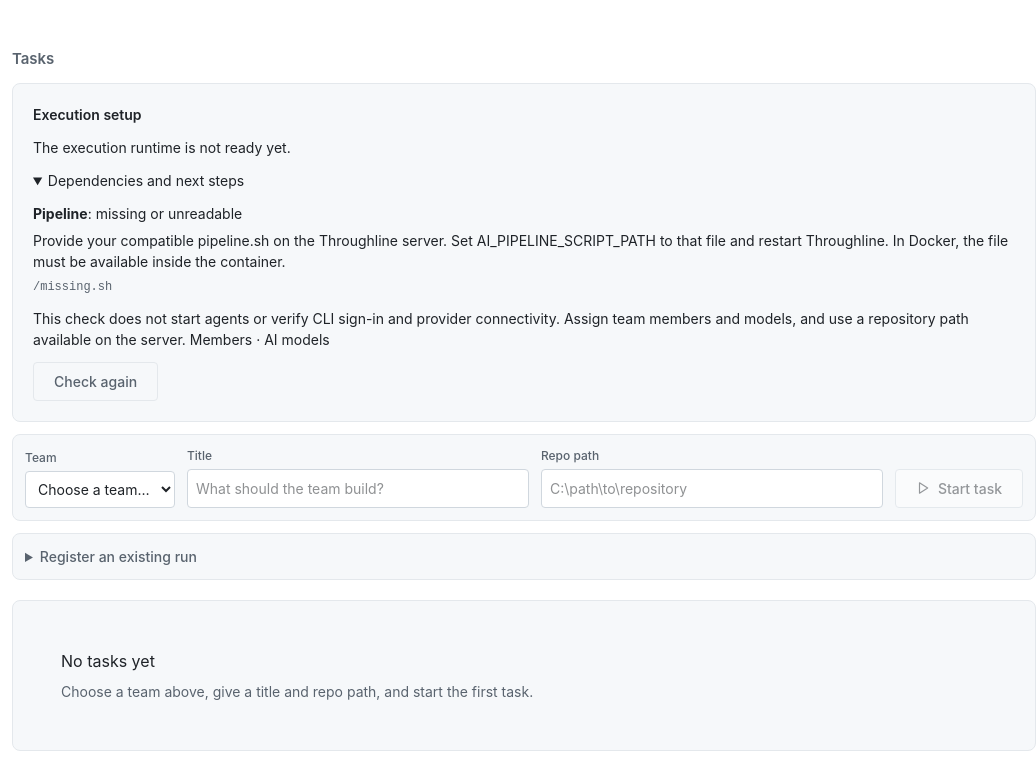
blocks unavailable runtime and enables launch after a successful retry
Select "Review team" in the dropdown labelled "Team" at (100, 489), box [25,470,175,508]
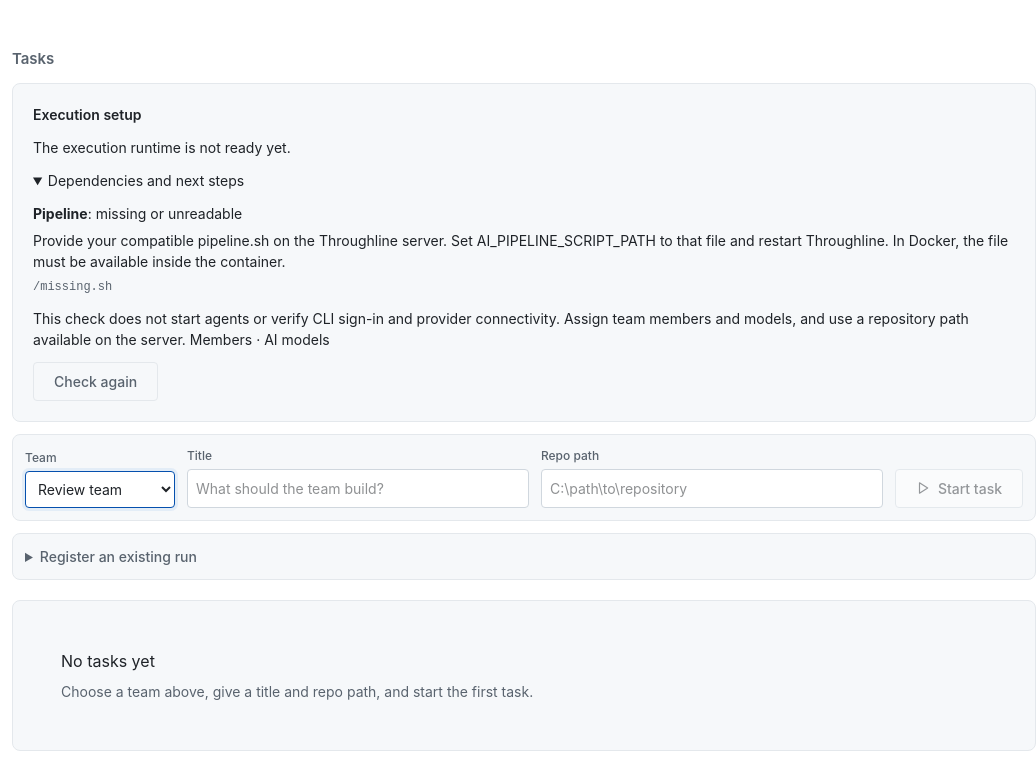
Type "Review" into the field labelled "Title" at (358, 488), box [187,468,529,508]
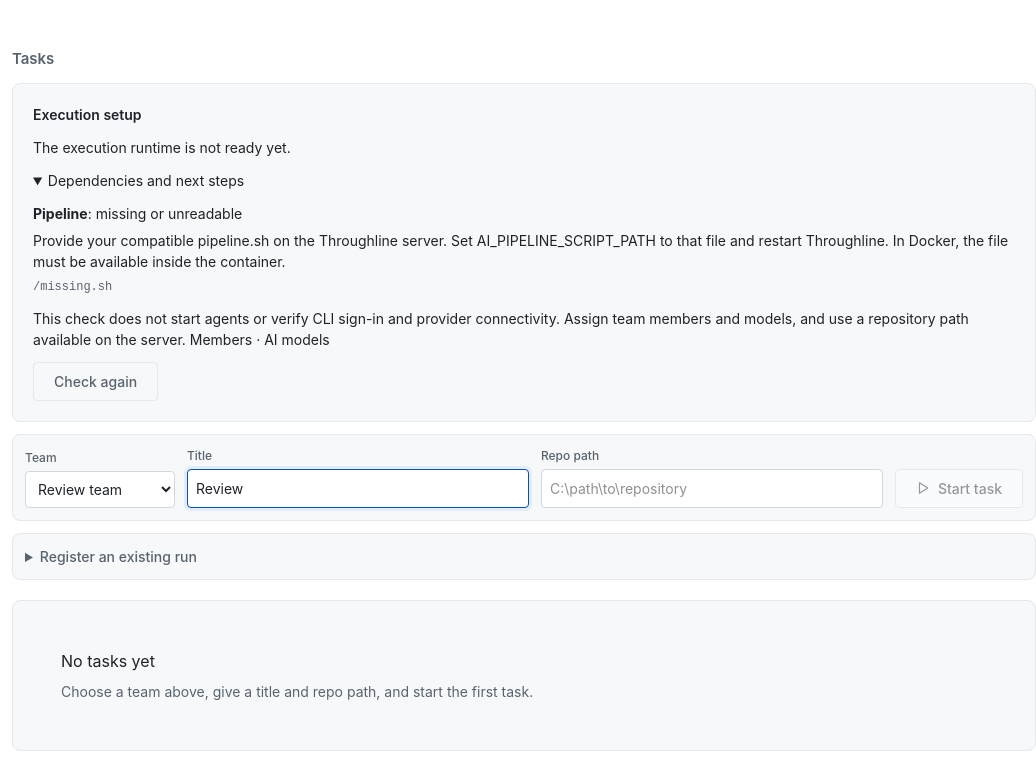
Type "/repo" into the field labelled "Repo path" at (712, 488), box [541,468,883,508]
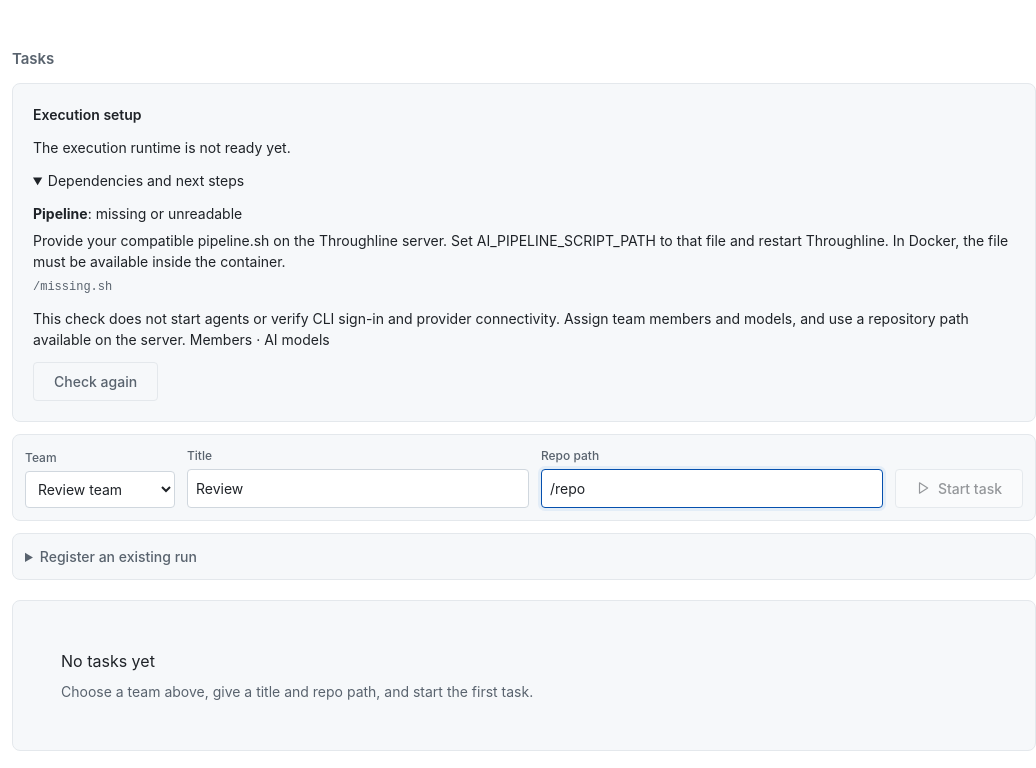
Expected: the button "Start task" is disabled, [895,468,1023,508]
Expected: the text "Provide your compatible" is shown, [33,232,1008,270]
Click the button "Check again" at (96, 381), box [33,362,158,400]
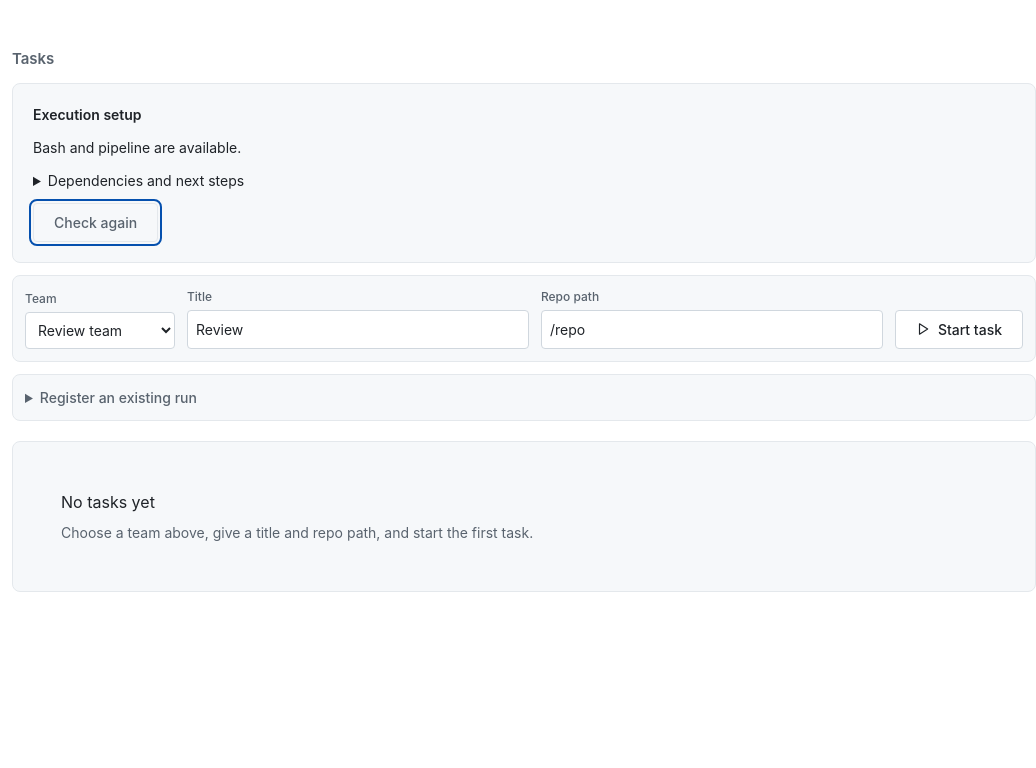
Now the button "Start task" is enabled, box [895,310,1023,348]
